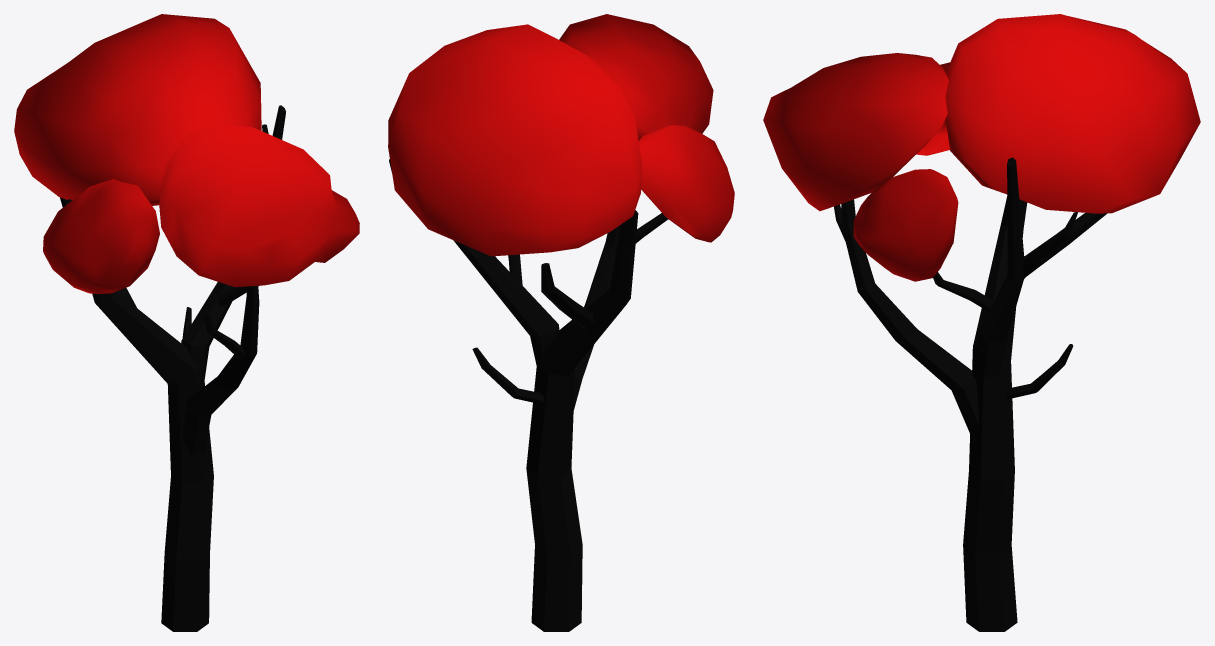
File: Tree.fbx
3 views of the same model, side by side, from view 1: azimuth 30°, elevation 25°; view 2: azimuth 150°, elevation 25°; view 3: azimuth 270°, elevation 25° (orthographic). The views are drawn at different scales.
Visible parts, largest first — view 1: Tree; view 2: Tree; view 3: Tree.
Boxes of the visible parts, box(x1,y1,x2,y2) form: Tree: box(14, 14, 359, 631); Tree: box(388, 14, 734, 631); Tree: box(763, 14, 1200, 631).
Bounding box in the file's own units: 541 × 685 × 1055.
